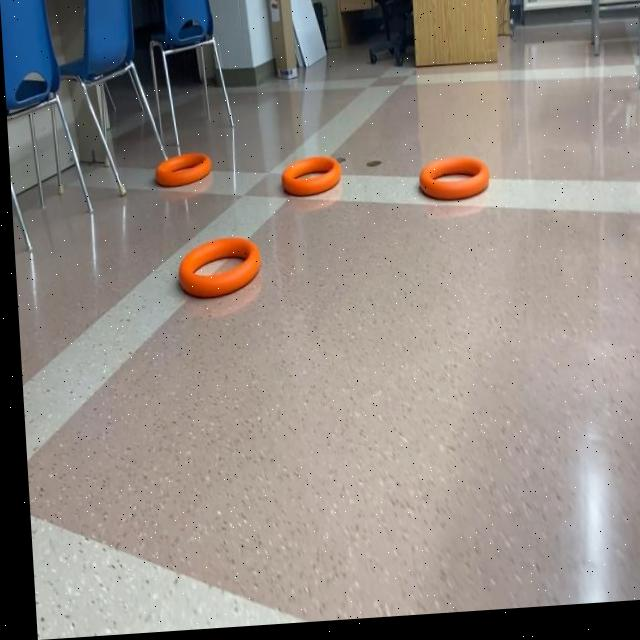note: (173, 234, 260, 305), (415, 158, 488, 210), (276, 155, 341, 206), (149, 149, 210, 195)
